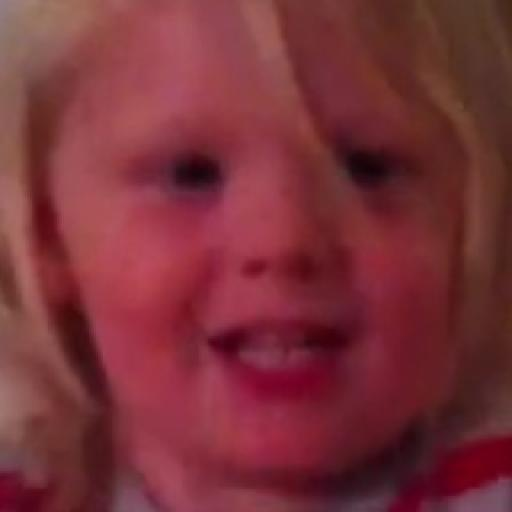Autism: (34, 8, 494, 438)
